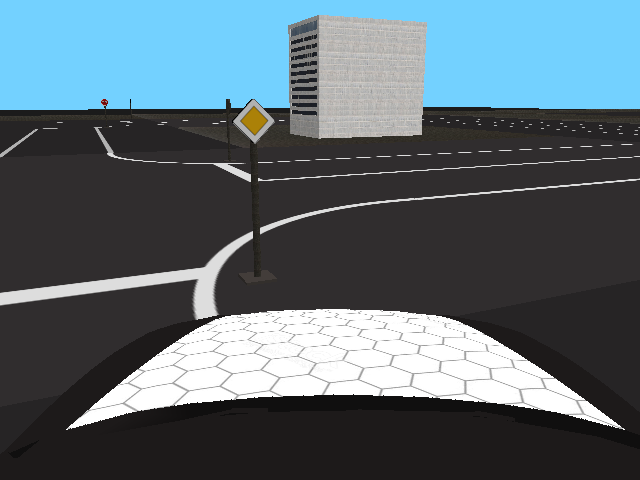priority: (232, 98, 276, 143)
